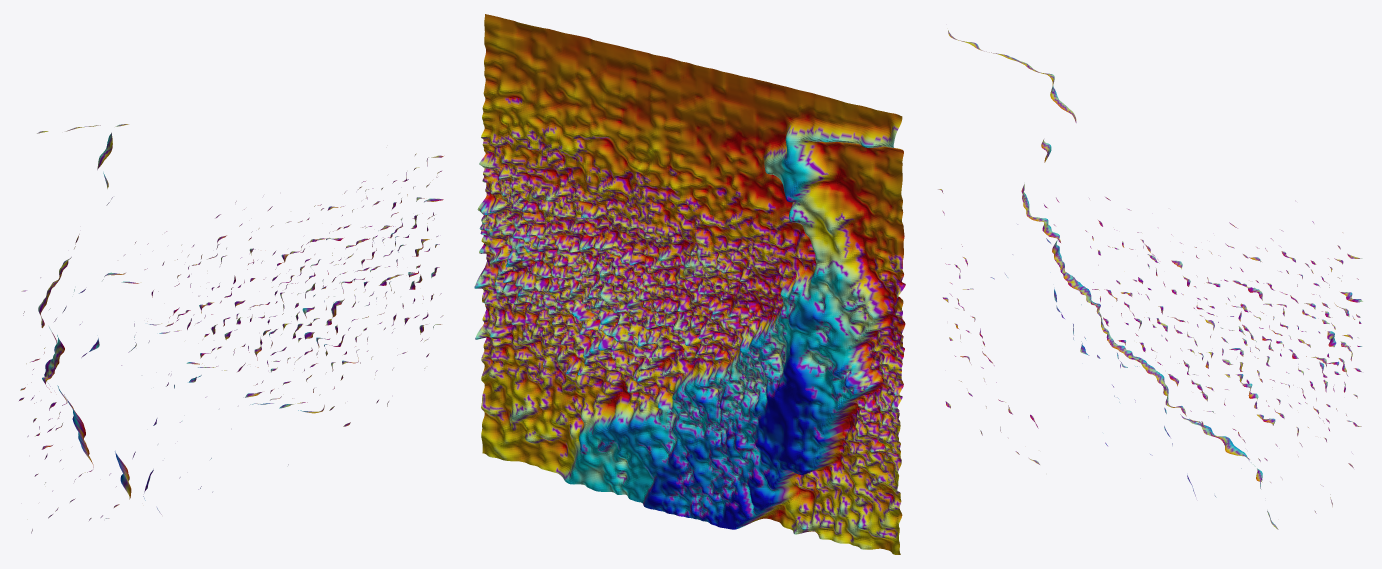
3 renders of one model, left to right at view 1: azimuth 30°, elevation 25°; view 2: azimuth 150°, elevation 25°; view 3: azimuth 330°, elevation 25°, orthographic.
Parts seen in each view (by area): view 1: world; view 2: world; view 3: world.
Part boxes in pixels (bbox=[...]): world: bbox=[19, 124, 443, 533]; world: bbox=[474, 14, 905, 554]; world: bbox=[938, 30, 1362, 529].
Bounding box in the file's own units: 299 × 299 × 30.
